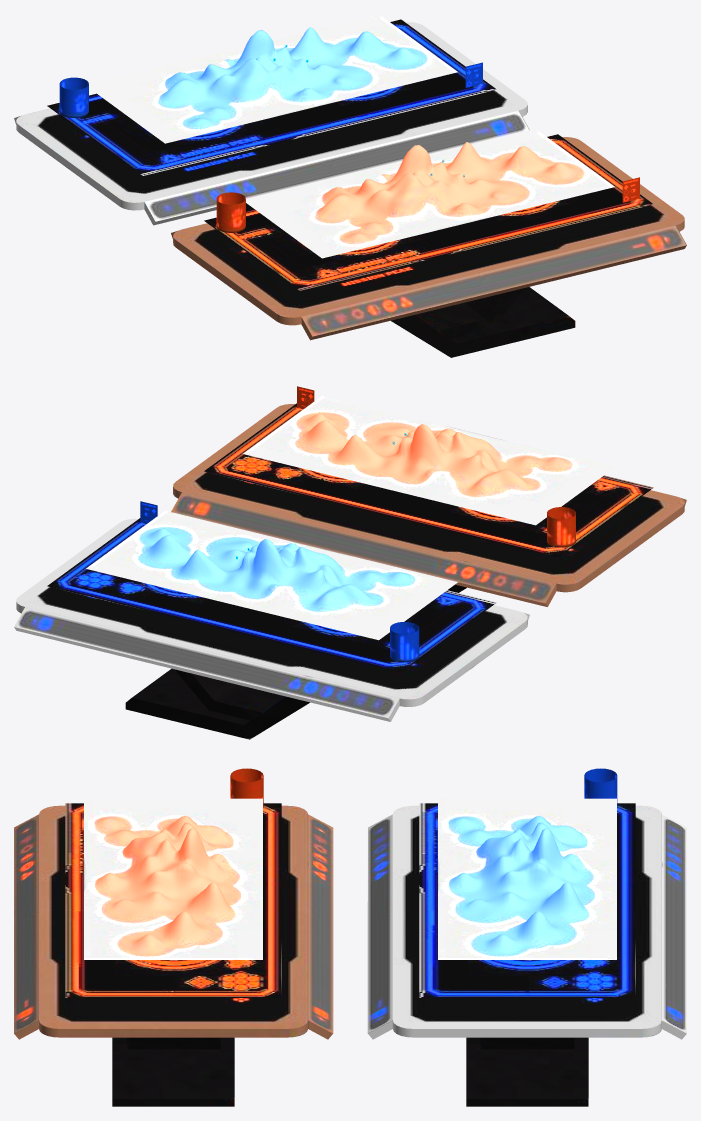
Rendered from hologram_table.glb.
3 renders of one model, top to bottom at view 1: azimuth 30°, elevation 25°; view 2: azimuth 150°, elevation 25°; view 3: azimuth 270°, elevation 25°, orthographic. The views are drawn at different scales.
Visible parts, largest first — view 1: HT1, HT; view 2: HT, HT1; view 3: HT, HT1.
Boxes of the visible parts, bbox=[...] form: HT1: bbox=[171, 129, 686, 357]; HT: bbox=[14, 14, 529, 225]; HT: bbox=[14, 501, 529, 739]; HT1: bbox=[171, 386, 686, 606]; HT: bbox=[367, 768, 686, 1106]; HT1: bbox=[14, 768, 333, 1106].
Bounding box in the file's own units: 2.62 × 1.15 × 3.34.
Materials: 2 (2 with a texture image).
